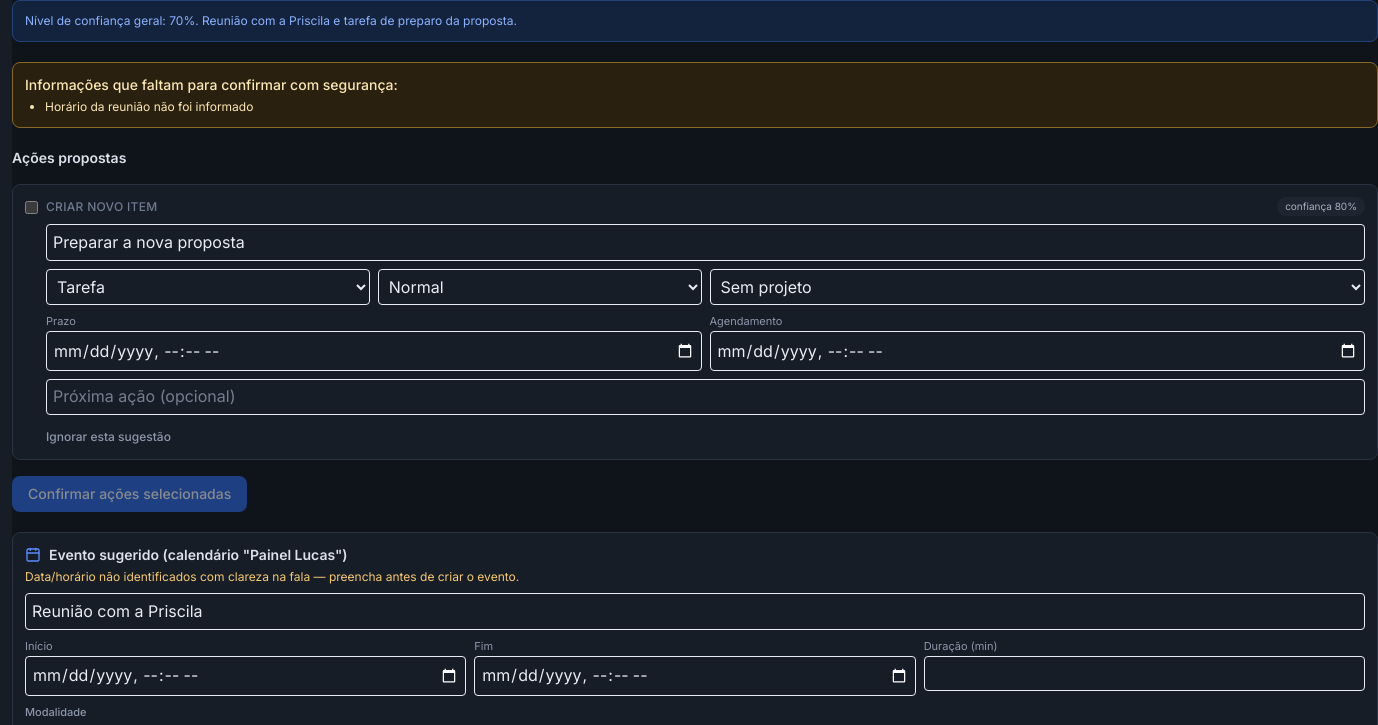
Test case: AudioCaptureReview — ações propostas › o servidor rejeitando por proposta desatualizada bloqueia a confirmação e mostra o aviso
The image size is (1378, 725).
Click the checkbox named "Aprovar ação: Preparar a nova proposta".
click(32, 208)  # box left=25, top=201, right=38, bottom=214
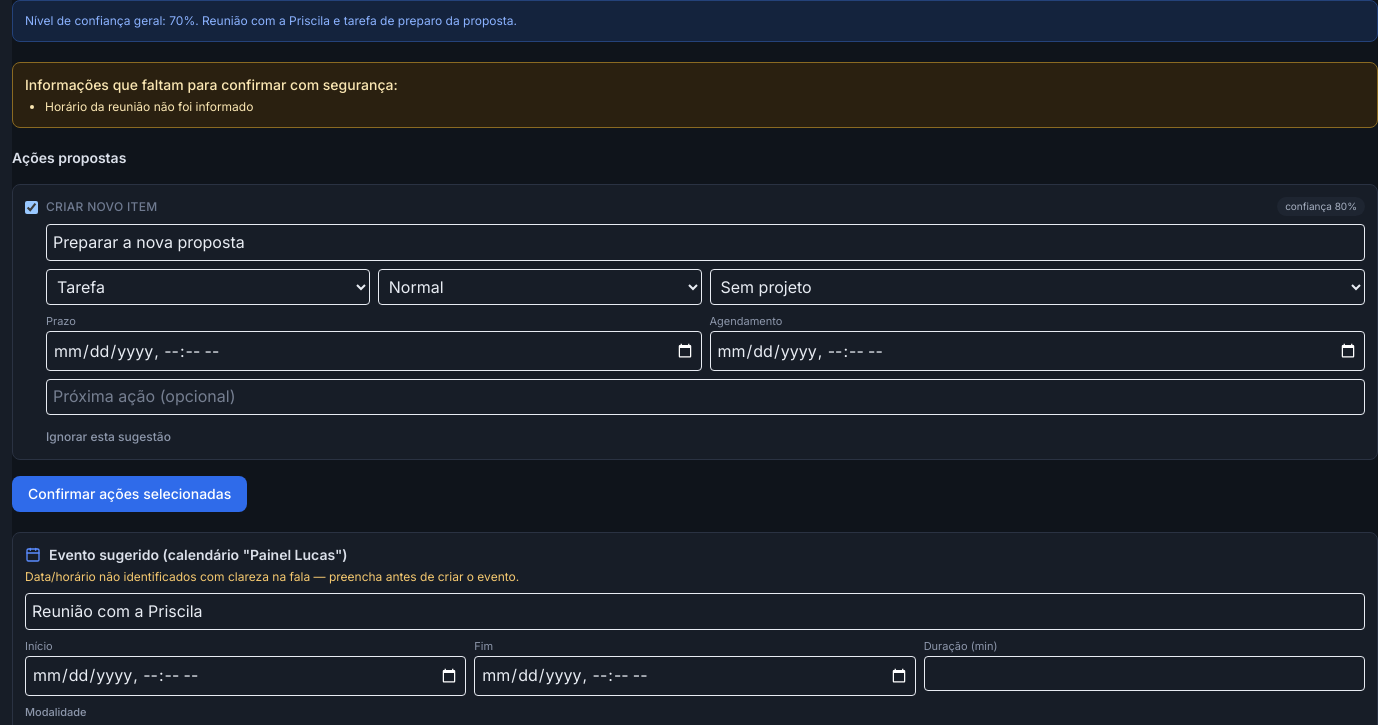
Click the button "Confirmar ações selecionadas".
click(130, 494)  # box left=12, top=476, right=247, bottom=512
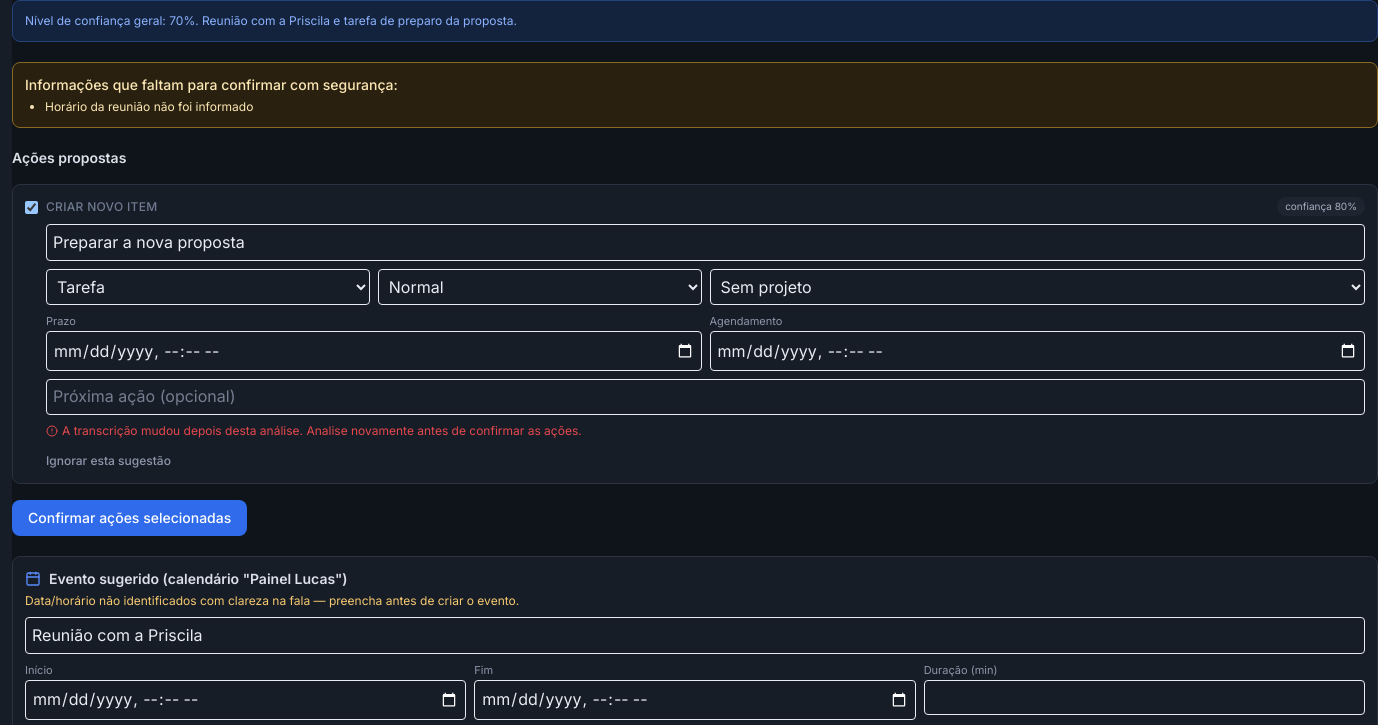
Check: the text "A transcrição mudou depois desta análise. Analise novamente antes de confirmar as ações." is shown, box left=62, top=423, right=582, bottom=438
